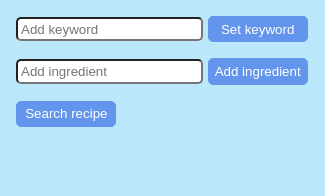
Scenario: App component › should check if the input field handles the keyword input and sets the keyword when the set keyword button is clicked
This screenshot has width=325, height=196.
Type "italian" into the field with test id "keywordInputID".
click(109, 29); type("italian")  # box [16, 17, 203, 41]
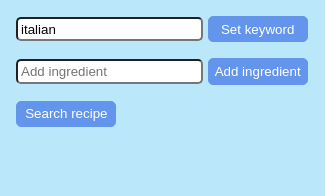
Click the button with test id "setKeywordID".
click(258, 29)  # box [208, 16, 308, 42]
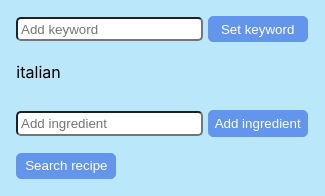
Now the element with test id "keywordID" shows "italian", box [16, 62, 61, 82]
Now the text "italian" is shown, box [16, 62, 61, 82]
